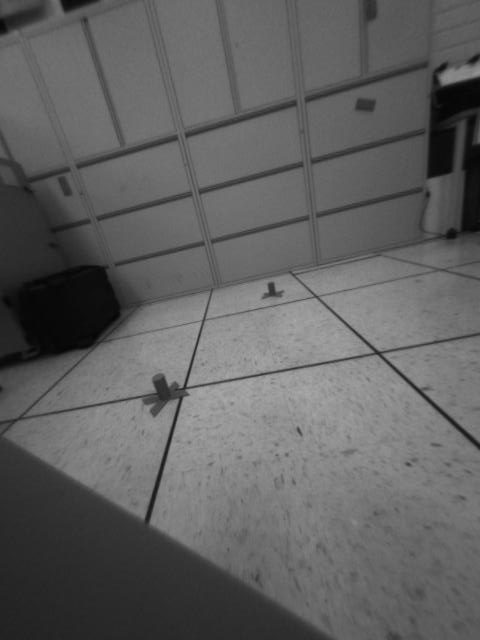X: (141, 371, 191, 418), (261, 280, 284, 299)
